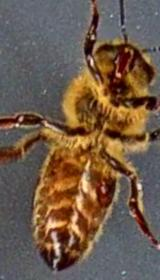varroa_mite: (92, 171, 116, 212)
